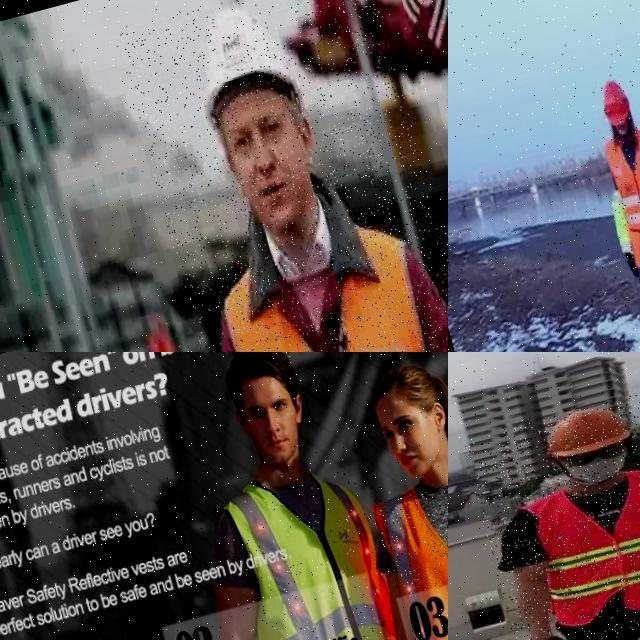helmet: (176, 0, 305, 128), (538, 396, 638, 462), (594, 76, 632, 126)
vest: (207, 199, 448, 352), (214, 458, 396, 640), (520, 459, 640, 628), (374, 468, 448, 598), (599, 122, 640, 275)
